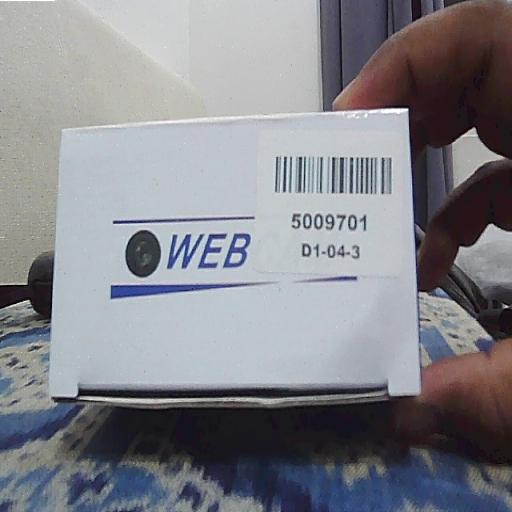webcam_box: (45, 108, 420, 415)
